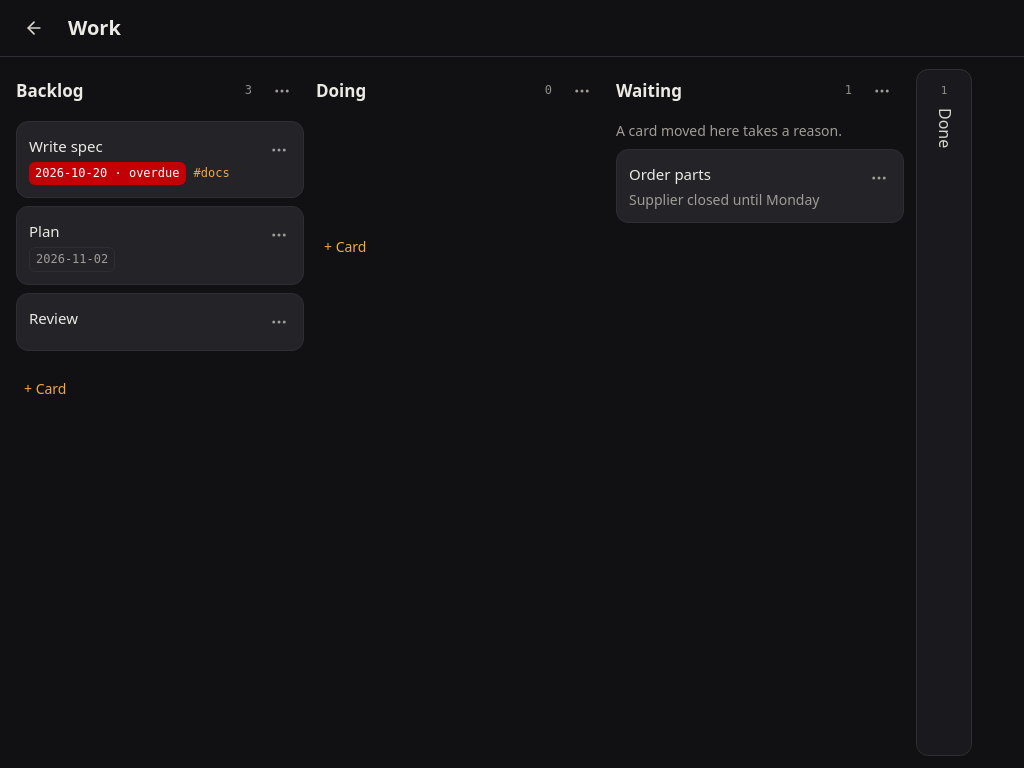
Test case: the board › says why a move didn't go through, in the sheet
Click the button named "Actions for Plan" at (279, 235), box x1=257 y1=213 x2=301 y2=257
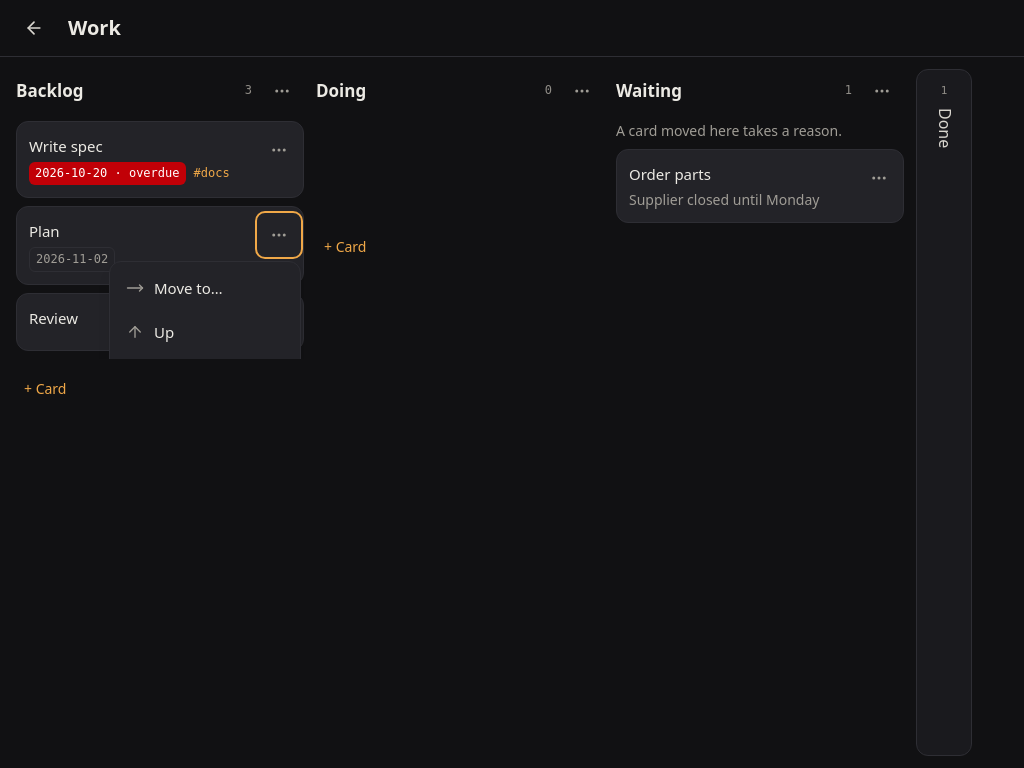
Click the menu item "Move to…" at (205, 288), box x1=114 y1=266 x2=296 y2=310
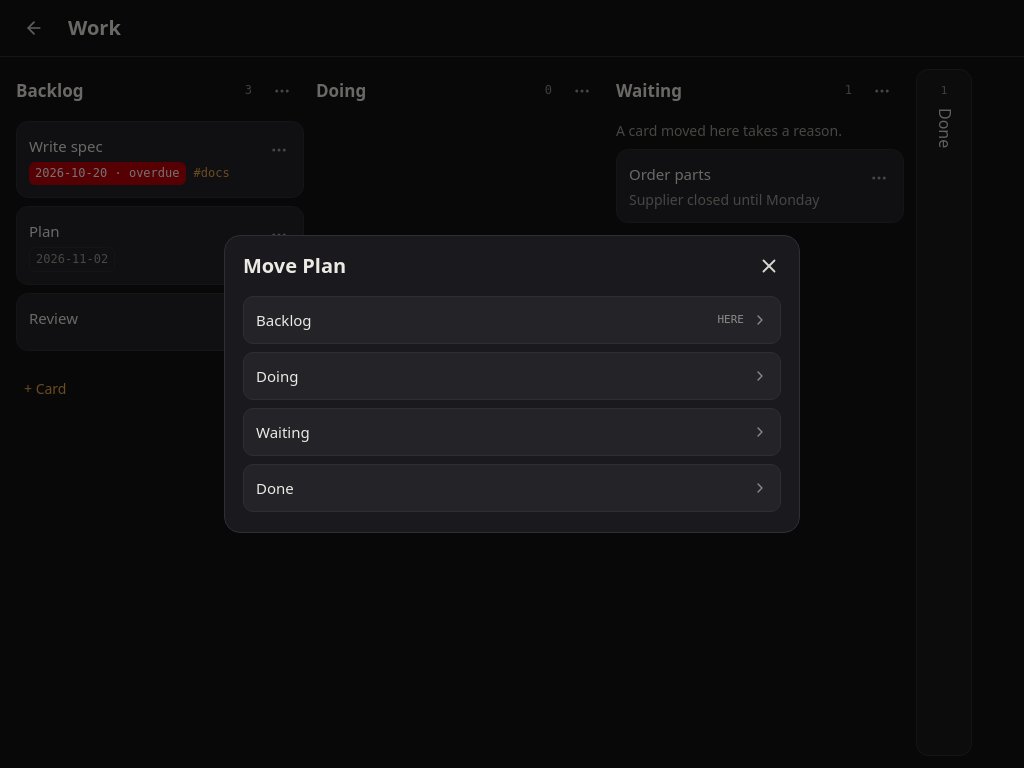
Click the button "Doing" at (277, 376), box x1=243 y1=352 x2=781 y2=400
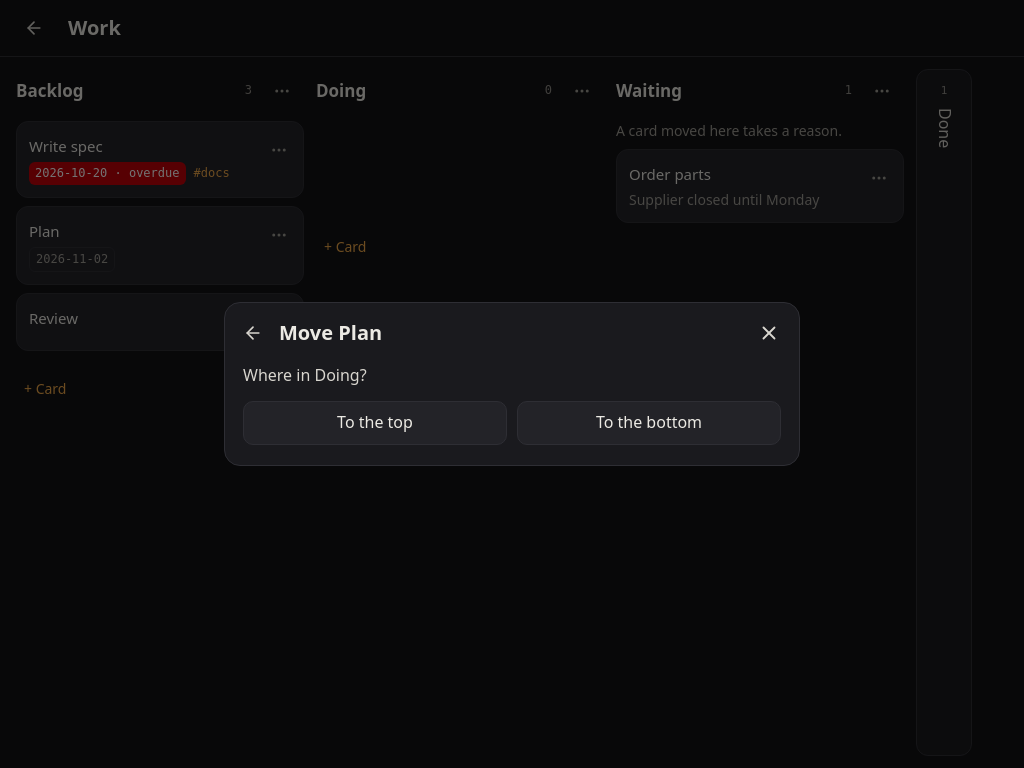
Click the button "To the bottom" at (649, 423), box x1=517 y1=401 x2=781 y2=445
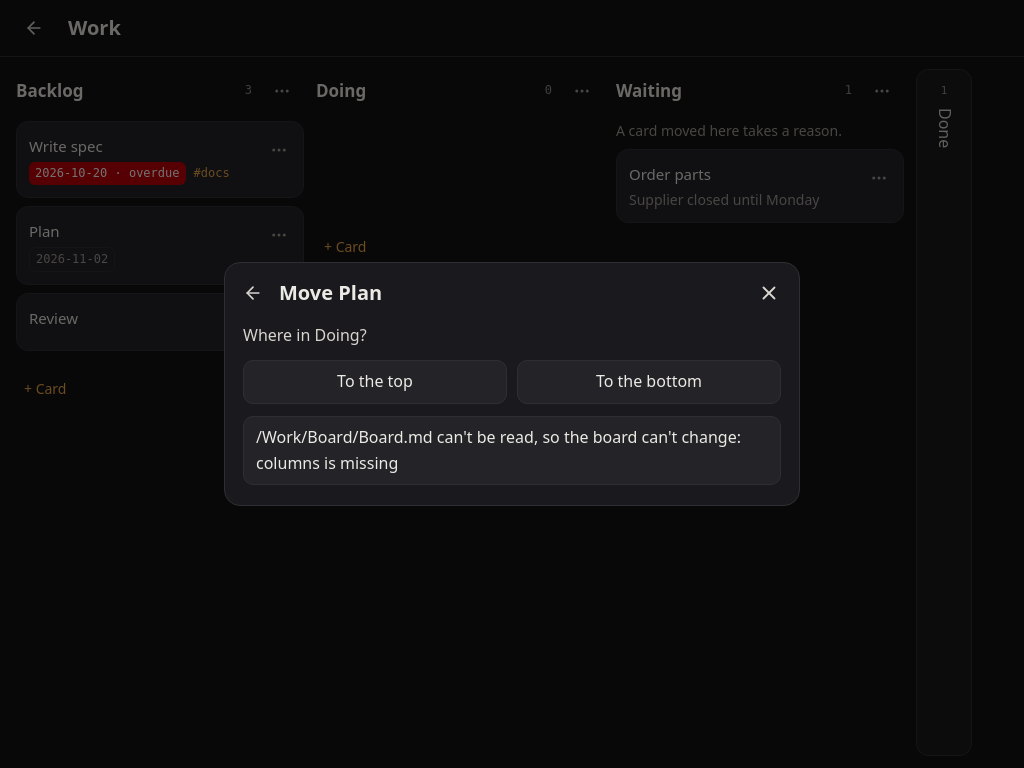
Check: the message shows "columns is missing", box x1=256 y1=426 x2=741 y2=474
